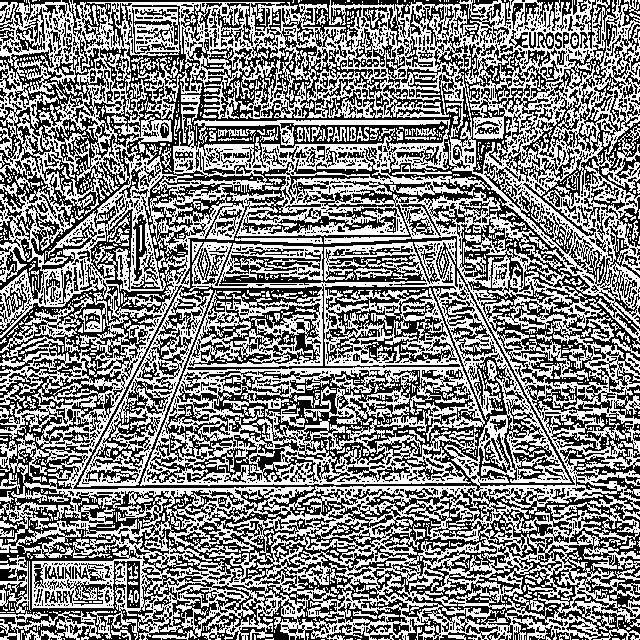left side: (397, 205, 573, 483), (75, 206, 246, 487)
player: (472, 356, 514, 484), (280, 143, 298, 205)
